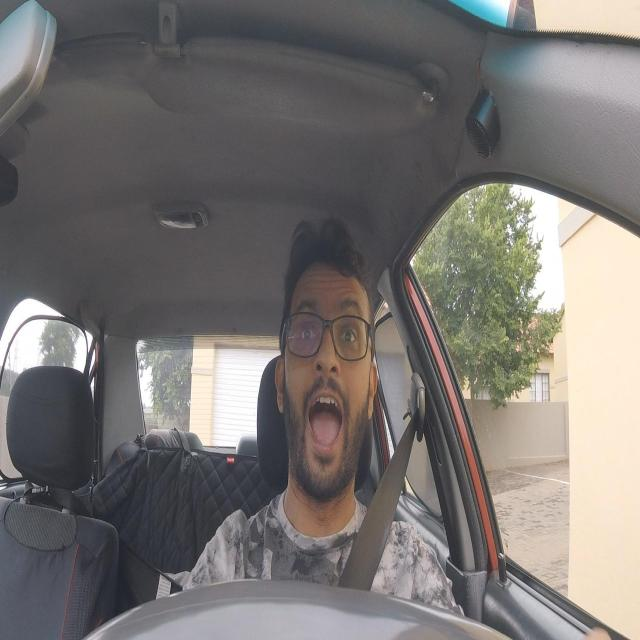open: (333, 294, 367, 361), (292, 295, 322, 362)
